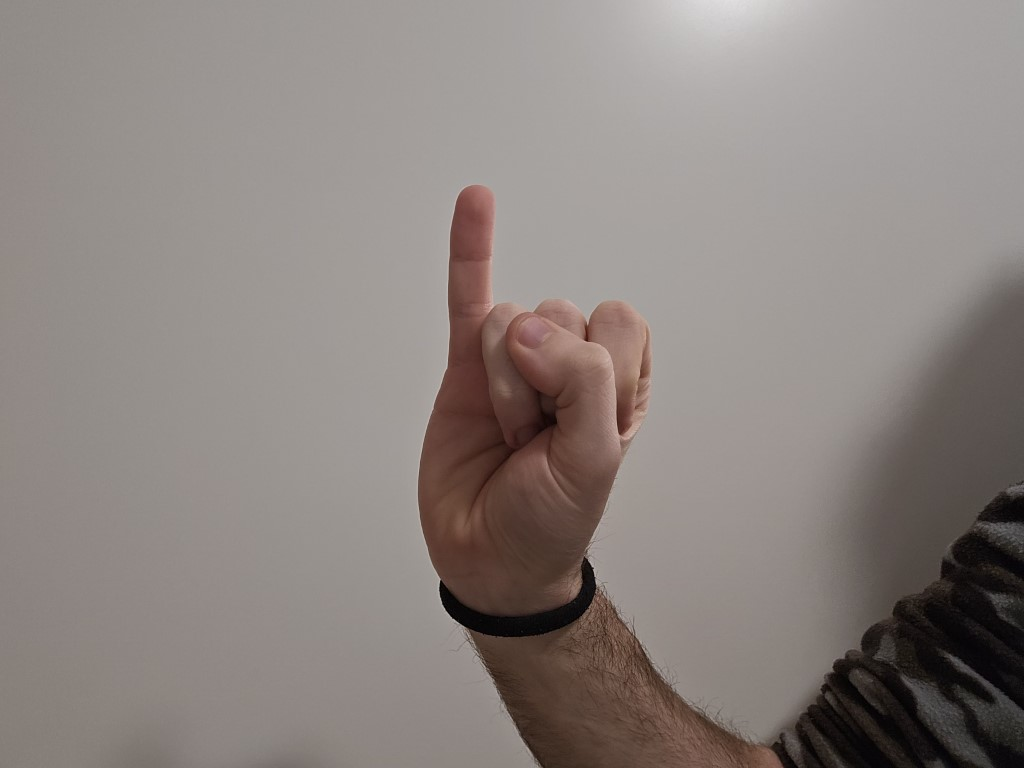i: (394, 171, 667, 576)
